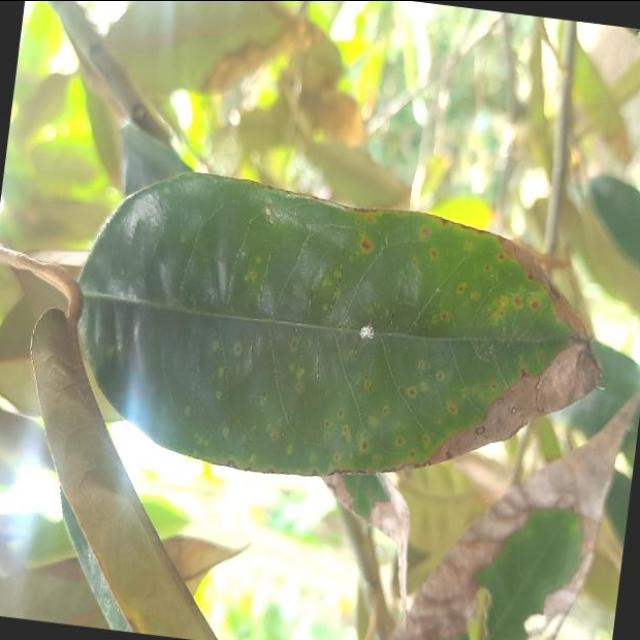Leaf Spot: (45, 151, 634, 521)
